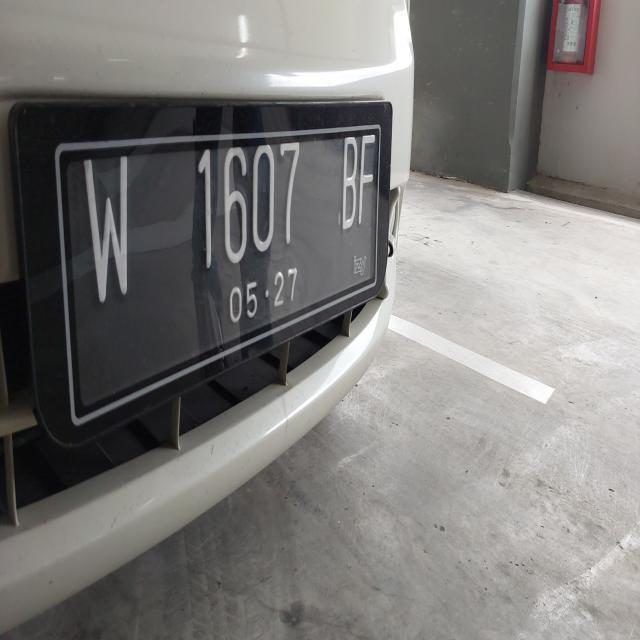0: (248, 128, 280, 266)
1: (182, 138, 224, 288)
6: (216, 132, 254, 278)
7: (272, 121, 312, 258)
B: (336, 122, 362, 242)
F: (354, 120, 382, 237)
W: (76, 152, 148, 316)
